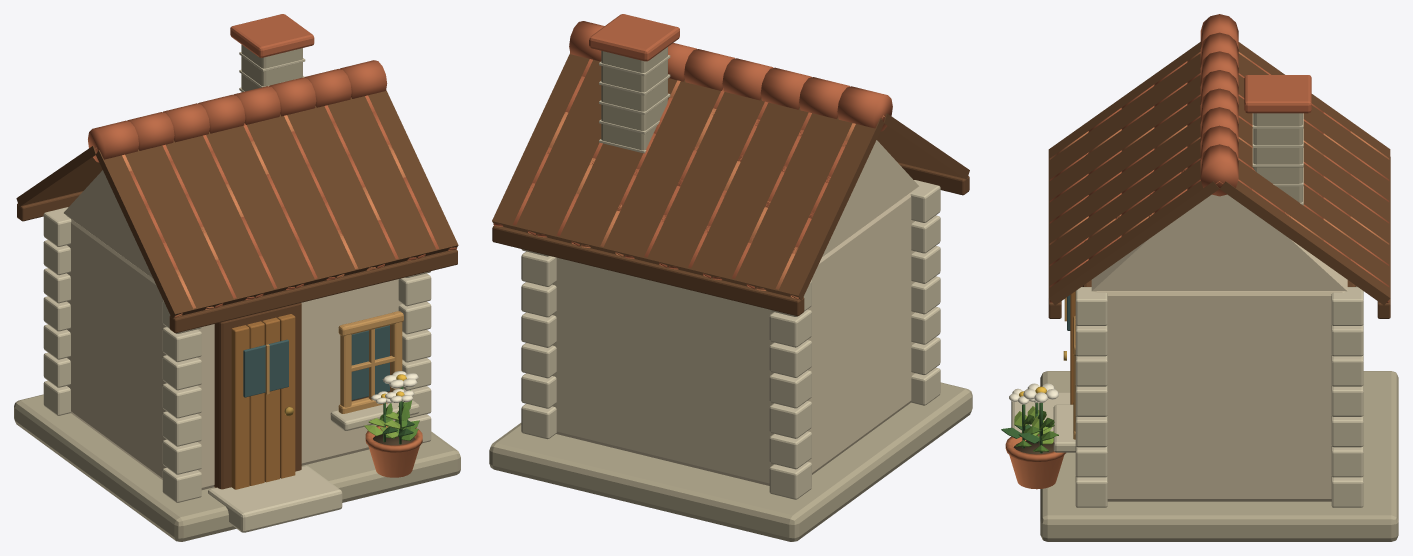
The model's file is 08_village_cottage.glb.
The picture shows the model from 3 angles, left to right: view 1: azimuth 30°, elevation 25°; view 2: azimuth 150°, elevation 25°; view 3: azimuth 270°, elevation 25°; orthographic projection. The views are drawn at different scales.
Parts seen in each view (by area): view 1: Roof underlay.002, Plaster walls.001, Foundation.001, Door step.001, Eave fascia.002, Door surround.001, Gable walls.001, Door plank.004, Chimney cap.001, Roof underlay.003, Door plank.007, Door window.001 (+35 smaller); view 2: Plaster walls.001, Roof underlay.003, Foundation.001, Eave fascia.003, Chimney.001, Gable walls.001, Chimney cap.001, Roof underlay.002, Ridge tile.012, Ridge tile.014, Ridge tile.015, Ridge tile.013 (+23 smaller); view 3: Plaster walls.001, Roof underlay.002, Foundation.001, Roof underlay.003, Gable walls.001, Chimney.001, Chimney cap.001, Terracotta pot.003, Ridge tile.019, Corner masonry.048, Corner masonry.055, Window sill.002 (+21 smaller).
Boxes of the visible parts, box(x1,y1,x2,y2) form: Roof underlay.002: box(96, 90, 458, 318); Plaster walls.001: box(67, 216, 402, 489); Foundation.001: box(14, 394, 460, 541); Door step.001: box(208, 466, 342, 532); Eave fascia.002: box(169, 249, 457, 333); Door surround.001: box(214, 303, 301, 489); Gable walls.001: box(64, 170, 152, 278); Door plank.004: box(231, 325, 249, 489); Chimney cap.001: box(230, 14, 314, 57); Roof underlay.003: box(16, 145, 102, 206); Door plank.007: box(277, 314, 295, 478); Door window.001: box(243, 339, 288, 397); Plaster walls.001: box(552, 189, 915, 485); Roof underlay.003: box(492, 53, 884, 300); Foundation.001: box(489, 382, 972, 541); Eave fascia.003: box(492, 226, 804, 316); Chimney.001: box(601, 47, 667, 150); Gable walls.001: box(822, 140, 918, 256); Chimney cap.001: box(589, 14, 679, 61); Roof underlay.002: box(876, 113, 969, 179); Ridge tile.012: box(837, 86, 892, 131); Ridge tile.014: box(760, 67, 811, 109); Ridge tile.015: box(722, 58, 773, 100); Ridge tile.013: box(799, 77, 849, 118); Plaster walls.001: box(1093, 291, 1345, 501); Roof underlay.002: box(1048, 42, 1219, 305); Foundation.001: box(1040, 371, 1398, 541); Roof underlay.003: box(1219, 42, 1390, 305); Gable walls.001: box(1091, 194, 1347, 291); Chimney.001: box(1253, 113, 1302, 202); Chimney cap.001: box(1244, 75, 1311, 113); Terracotta pot.003: box(1005, 432, 1065, 489); Ridge tile.019: box(1200, 144, 1238, 196); Corner masonry.048: box(1075, 287, 1107, 325); Corner masonry.055: box(1331, 287, 1363, 325); Window sill.002: box(1053, 404, 1075, 452).
Bounding box in the file's own units: 2.43 × 3.12 × 2.72.
